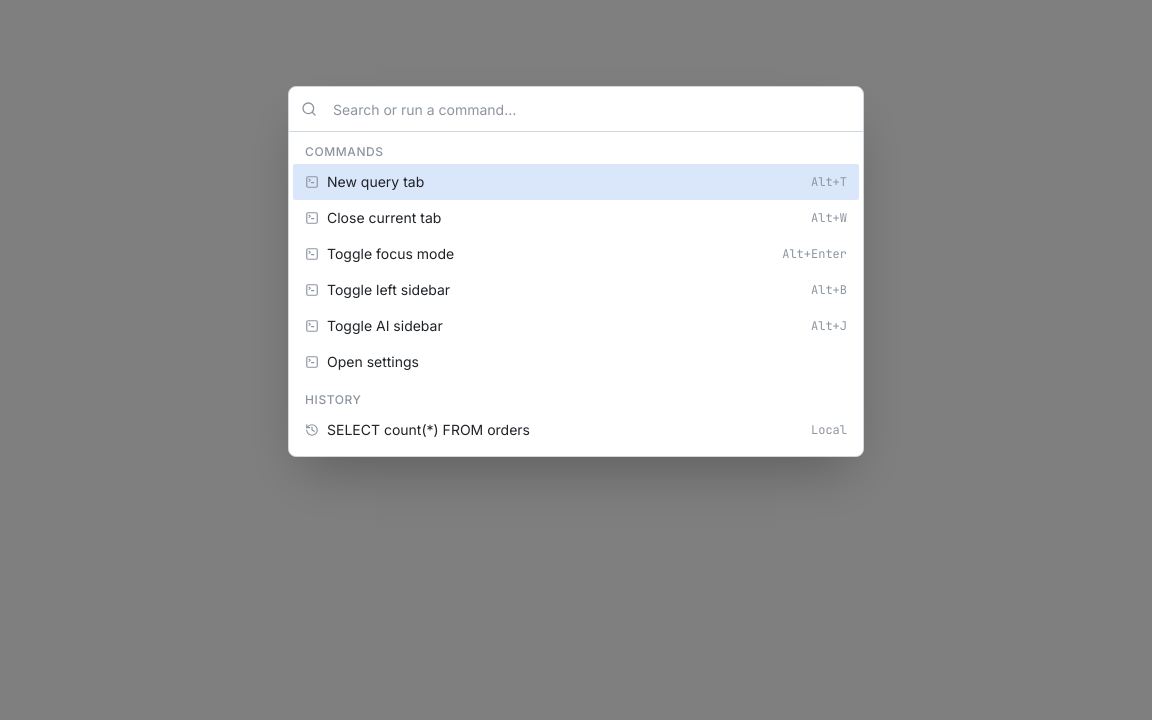
Scenario: CommandPalette › arrow-key navigation reaches commands and typing filters them
The width and height of the screenshot is (1152, 720).
Type "shortcuts" into the dropdown labelled "Search". click: (588, 109)
box: [325,87,851,131]
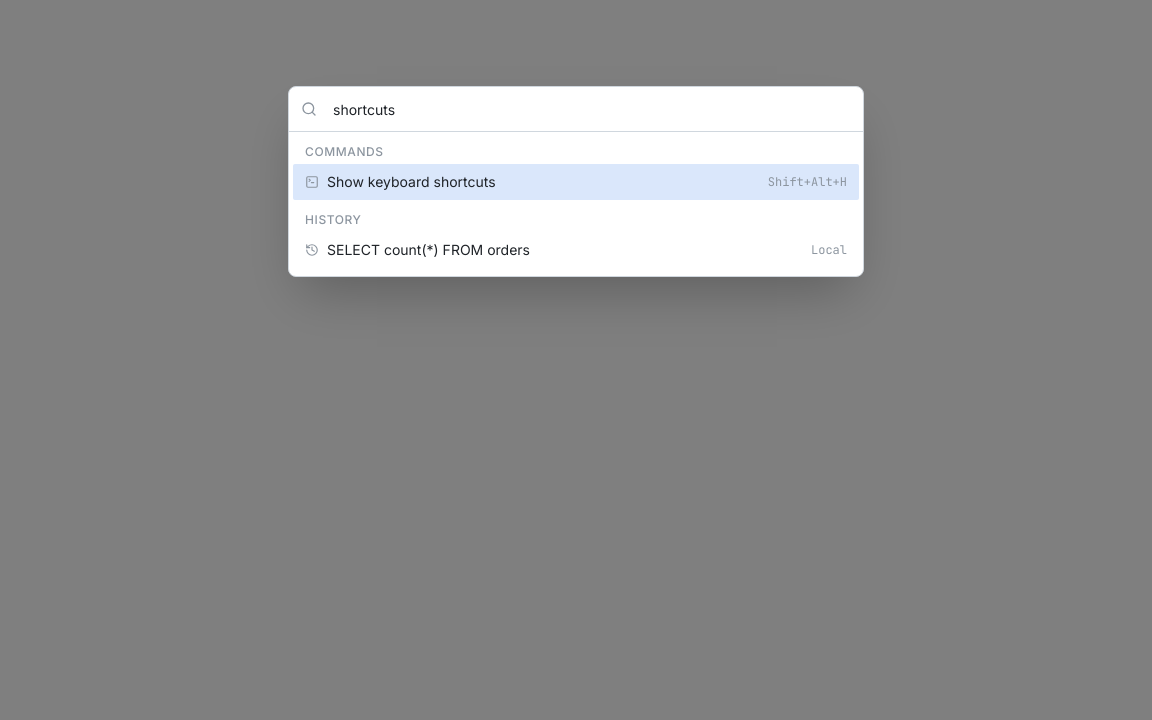
Expected: the text "Show keyboard shortcuts" is shown, [327,173,496,190]
Expected: the option "New query tab" is gone
